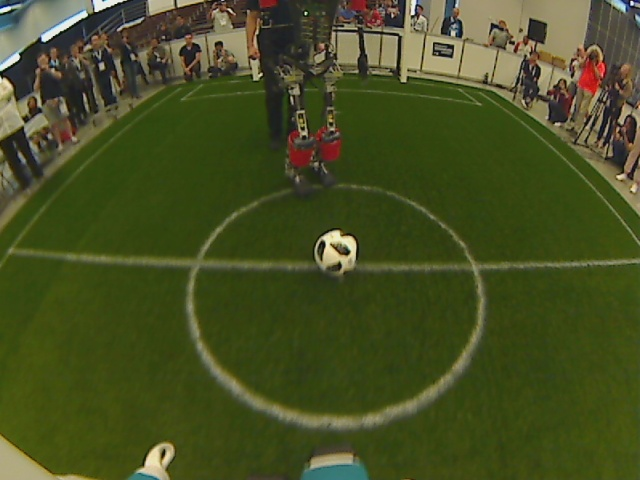ball: (310, 227, 363, 278)
